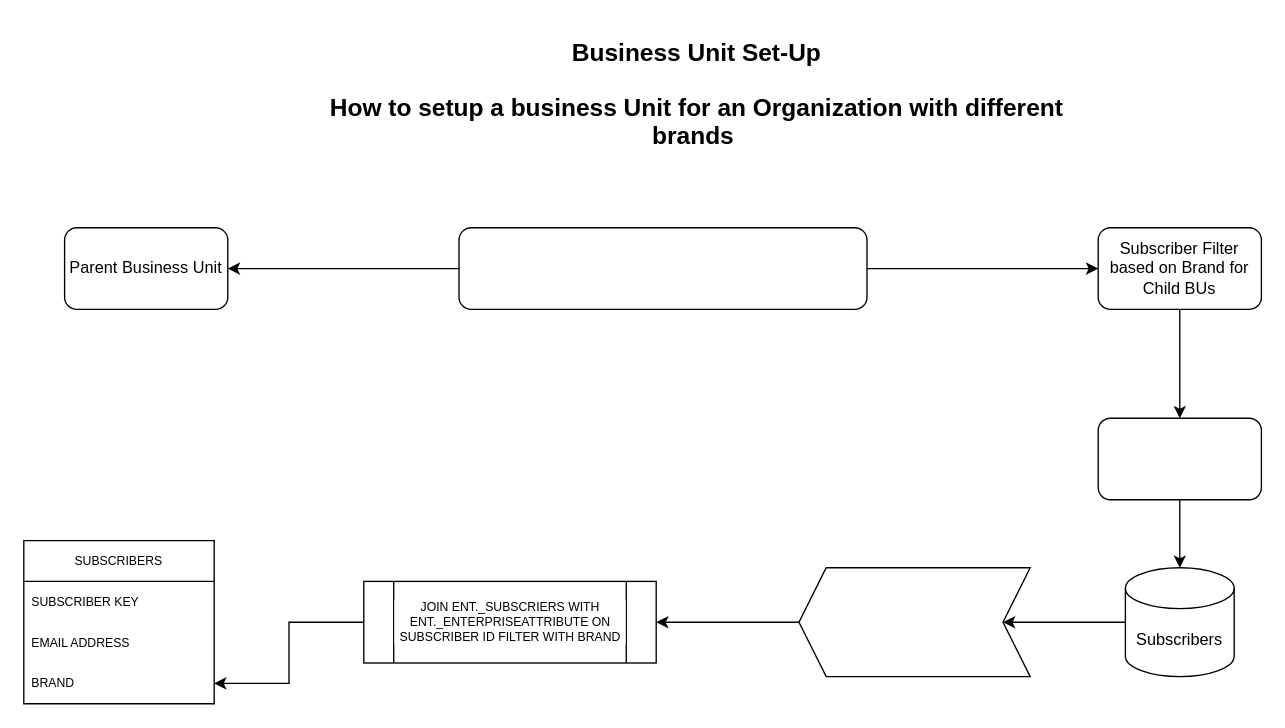
This 1285x728 diagram has some shape labels left out. Here are the shapes that lost their labels. From the top down, the centre of each, then its label:
[662,267]: Profile Attribute First Name, Last Name , Country Code , Brand
[1179,458]: Child Business Unit
[914,621]: Get Subscribers for this brand
